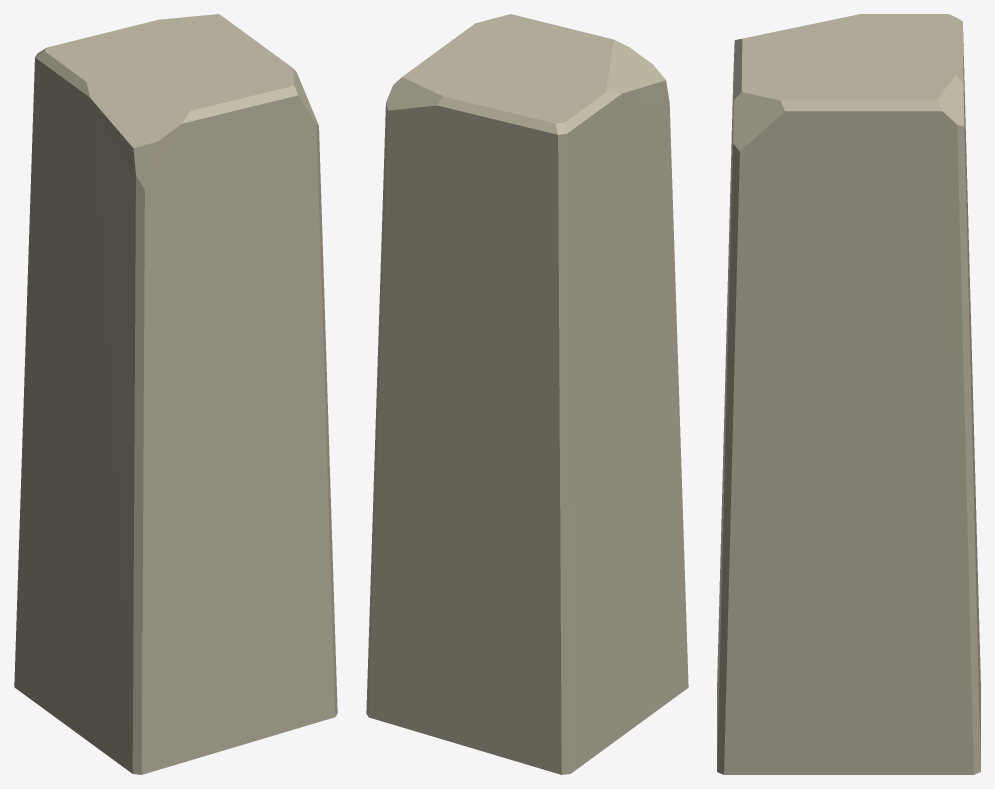
Rendered from Rock_Square_l_02.fbx.
3 renders of one model, left to right at view 1: azimuth 30°, elevation 25°; view 2: azimuth 150°, elevation 25°; view 3: azimuth 270°, elevation 25°, orthographic. The views are drawn at different scales.
Parts seen in each view (by area): view 1: Rock_Square_l_02; view 2: Rock_Square_l_02; view 3: Rock_Square_l_02.
Part boxes in pixels (left/top/right/bottom): Rock_Square_l_02: left=14, top=14, right=337, bottom=774; Rock_Square_l_02: left=366, top=14, right=688, bottom=774; Rock_Square_l_02: left=717, top=14, right=980, bottom=774.
Bounding box in the file's own units: 1.37 × 4.1 × 1.45.
